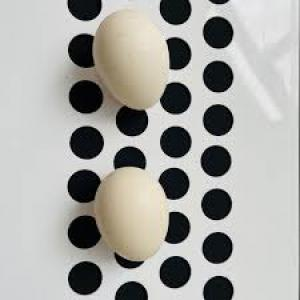Egg: (92, 9, 170, 111), (94, 166, 170, 262)
